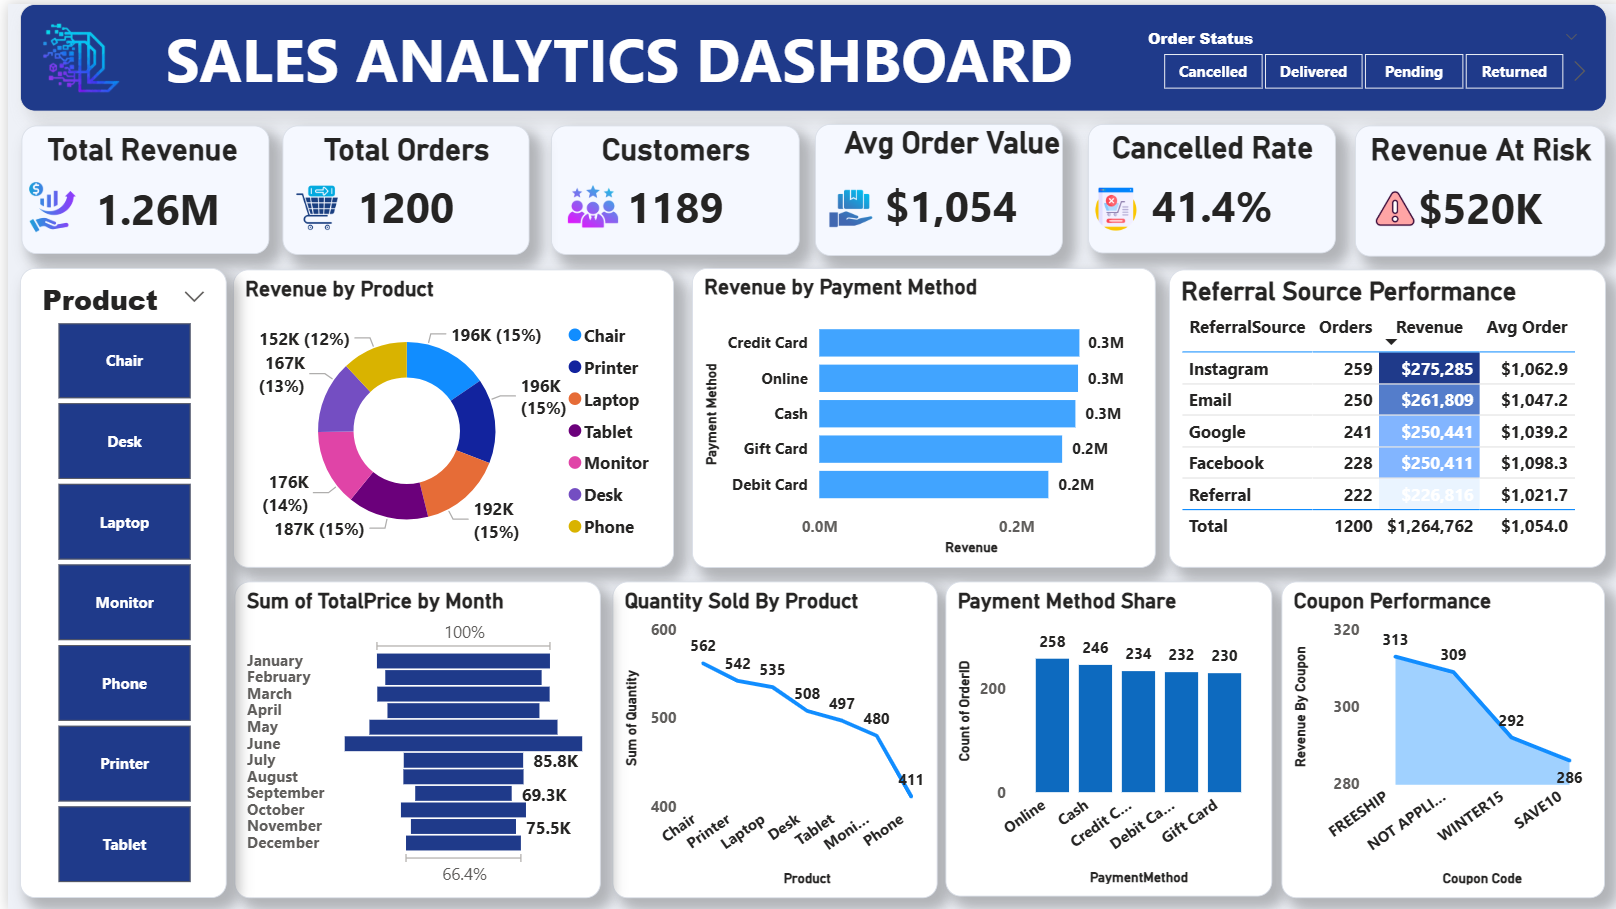

This screenshot's page, from the dashboard's own definition file:
{"tool":"powerbi","page":{"name":"Page 1","canvas":[1280,720],"ordinal":0},"visuals":[{"type":"textbox","box":[10,0,1259,85],"z":0},{"type":"image","box":[10.3,0,93,85.2],"z":1000},{"type":"card","title":"Total Revenue","fields":{"Values":["Sum(Cleaned_Dataset.TotalPrice)"]},"box":[10.2,96.2,197,101.9],"z":2000},{"type":"card","title":"Customers","fields":{"Values":["Cleaned_Dataset.Unique Customers"]},"box":[430.6,95.8,197.2,102.8],"z":3000},{"type":"card","title":"Avg Order Value","fields":{"Values":["Cleaned_Dataset.Average Order Value"]},"box":[640.5,95.4,196.8,104.5],"z":4000},{"type":"card","title":"Cancelled Rate","fields":{"Values":["Cleaned_Dataset.Cancelled + Returned %"]},"box":[857,95.4,196.8,103],"z":5000},{"type":"card","title":"Revenue At Risk","fields":{"Values":["Cleaned_Dataset.Revenue at Risk"]},"box":[1069.4,95.8,198.6,104.2],"z":6000},{"type":"card","title":"Total Orders","fields":{"Values":["CountNonNull(Cleaned_Dataset.OrderID)"]},"box":[218.1,95.8,195.8,102.8],"z":7000},{"type":"image","box":[1069.8,141.5,61.1,40.8],"z":8000},{"type":"image","box":[847.2,140.3,63.9,44.4],"z":9000},{"type":"image","box":[638.9,138.9,59.7,45.8],"z":10000},{"type":"image","box":[430.6,134.7,66.7,51.4],"z":11000},{"type":"image","box":[208.3,137.5,73.6,47.2],"z":12000},{"type":"image","box":[0,134.7,70.2,53.2],"z":13000},{"type":"donutChart","title":"Revenue by Product","fields":{"Category":["Cleaned_Dataset.Product"],"Y":["Sum(Cleaned_Dataset.TotalPrice)"]},"box":[178.9,210.6,349.8,236.6],"z":14000},{"type":"barChart","title":"Revenue by Payment Method","fields":{"Category":["Cleaned_Dataset.PaymentMethod"],"Y":["Sum(Cleaned_Dataset.TotalPrice)"]},"box":[542.3,209.4,367.9,237.7],"z":15000},{"type":"tableEx","title":"Referral Source Performance","fields":{"Values":["Cleaned_Dataset.ReferralSource","Cleaned_Dataset.OrderID","Sum(Cleaned_Dataset.TotalPrice)","Avg(Cleaned_Dataset.TotalPrice)"]},"box":[921.5,210.6,346.4,236.6],"z":16000},{"type":"lineChart","title":"Quantity Sold By Product","fields":{"Category":["Cleaned_Dataset.Product"],"Y":["Sum(Cleaned_Dataset.Quantity)"]},"box":[480,458.5,258.1,251.3],"z":17000},{"type":"clusteredColumnChart","title":"Payment Method Share","fields":{"Category":["Cleaned_Dataset.PaymentMethod"],"Y":["CountNonNull(Cleaned_Dataset.OrderID)"]},"box":[743.8,458.5,259.2,250.2],"z":18000},{"type":"funnel","fields":{"Category":["Cleaned_Dataset.Date.Variation.Date Hierarchy.Month"],"Y":["Sum(Cleaned_Dataset.TotalPrice)"]},"box":[180,458.5,290.9,251.3],"z":19000},{"type":"areaChart","title":"Coupon Performance","fields":{"Category":["Cleaned_Dataset.CouponCode"],"Y":["CountNonNull(Cleaned_Dataset.OrderID)"]},"box":[1010.9,458.5,257,251.3],"z":20000},{"type":"slicer","fields":{"Values":["Cleaned_Dataset.Product"]},"box":[9,209.2,164,499.7],"z":21000},{"type":"slicer","fields":{"Values":["Cleaned_Dataset.OrderStatus"]},"box":[892.1,13.6,366.8,61.1],"z":22000}]}

Visuals, with their boxes in screenshot pixels (x1, y1, x2, y2), scaled from the page's 1280x720 canvas onto the 1616x909 screenshot:
textbox: [13,0,1602,107]
image: [13,0,130,108]
"Total Revenue" card: [13,121,262,250]
"Customers" card: [544,121,793,251]
"Avg Order Value" card: [809,120,1057,252]
"Cancelled Rate" card: [1082,120,1330,250]
"Revenue At Risk" card: [1350,121,1601,252]
"Total Orders" card: [275,121,523,251]
image: [1351,179,1428,230]
image: [1070,177,1150,233]
image: [807,175,882,233]
image: [544,170,628,235]
image: [263,174,356,233]
image: [0,170,89,237]
"Revenue by Product" donutChart: [226,266,667,565]
"Revenue by Payment Method" barChart: [685,264,1149,564]
"Referral Source Performance" tableEx: [1163,266,1601,565]
"Quantity Sold By Product" lineChart: [606,579,932,896]
"Payment Method Share" clusteredColumnChart: [939,579,1266,895]
funnel - Cleaned_Dataset.Date.Variation.Date Hierarchy.Month x Sum(Cleaned_Dataset.TotalPrice): [227,579,595,896]
"Coupon Performance" areaChart: [1276,579,1601,896]
slicer - Cleaned_Dataset.Product: [11,264,218,895]
slicer - Cleaned_Dataset.OrderStatus: [1126,17,1589,94]
